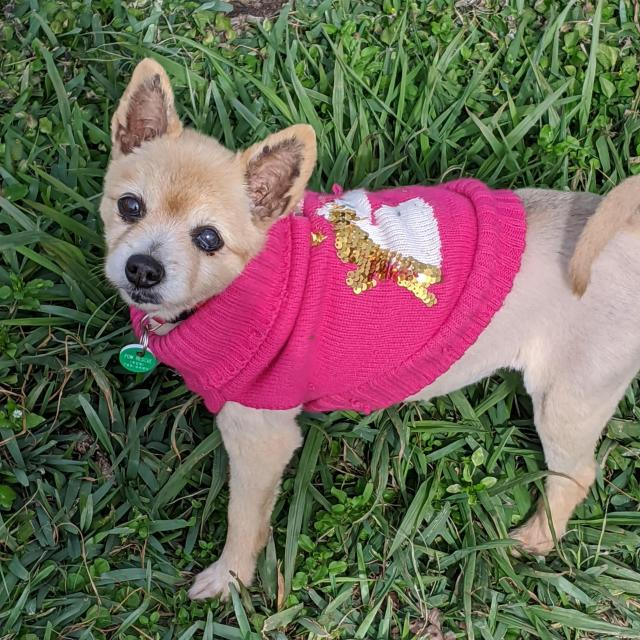pomeranian_dog: (92, 49, 327, 332)
